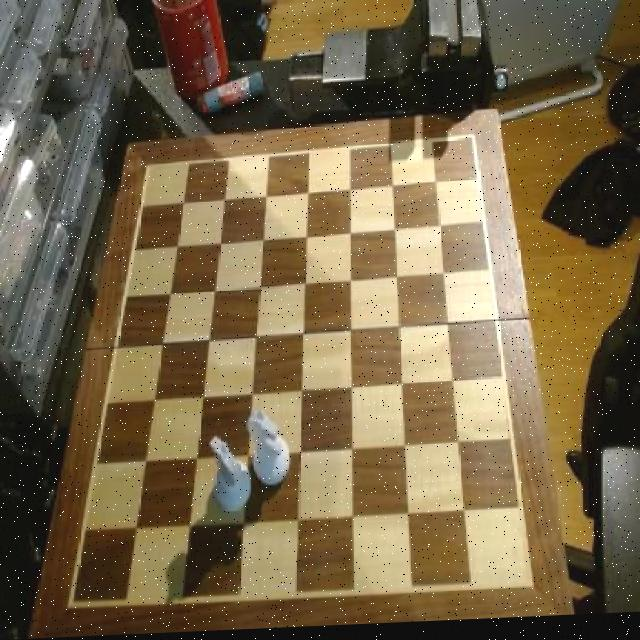white-king: (244, 410, 292, 493), (208, 436, 255, 517)
